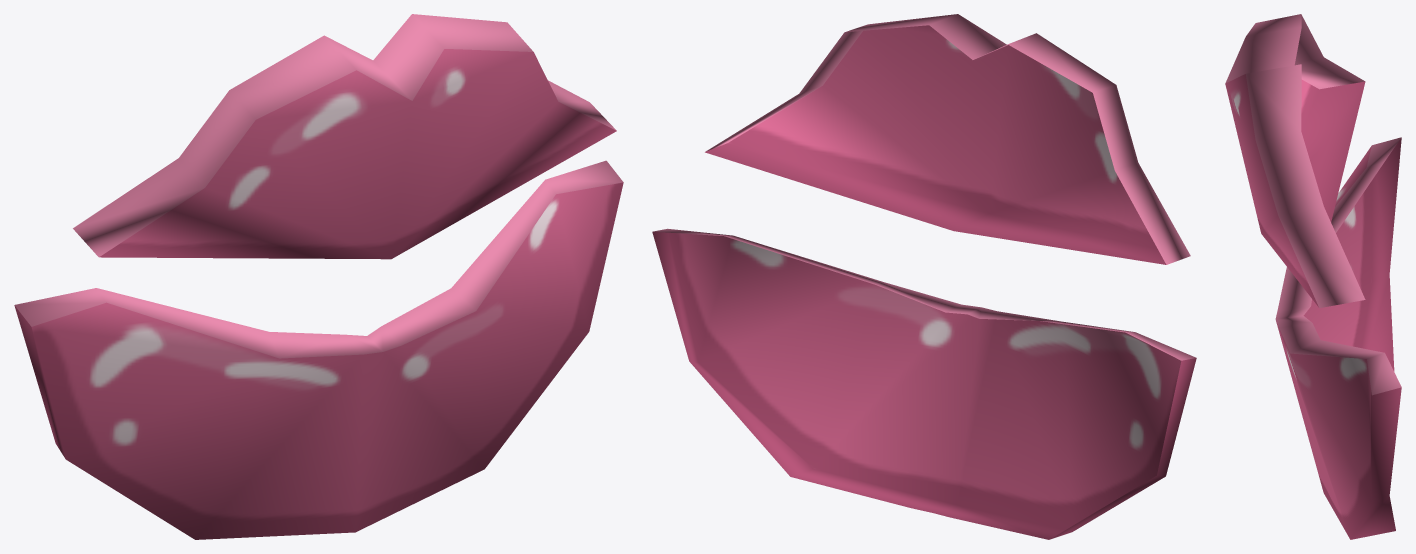
The model's file is Lips.fbx.
The picture shows the model from 3 angles, left to right: view 1: azimuth 30°, elevation 25°; view 2: azimuth 150°, elevation 25°; view 3: azimuth 270°, elevation 25°; orthographic projection. The views are drawn at different scales.
Visible parts, largest first — view 1: Lips; view 2: Lips; view 3: Lips.
Boxes of the visible parts, box(x1,y1,x2,y2) form: Lips: box(14, 14, 623, 539); Lips: box(652, 14, 1196, 539); Lips: box(1225, 14, 1401, 539).
Bounding box in the file's own units: 8.74 × 7.29 × 2.61.
